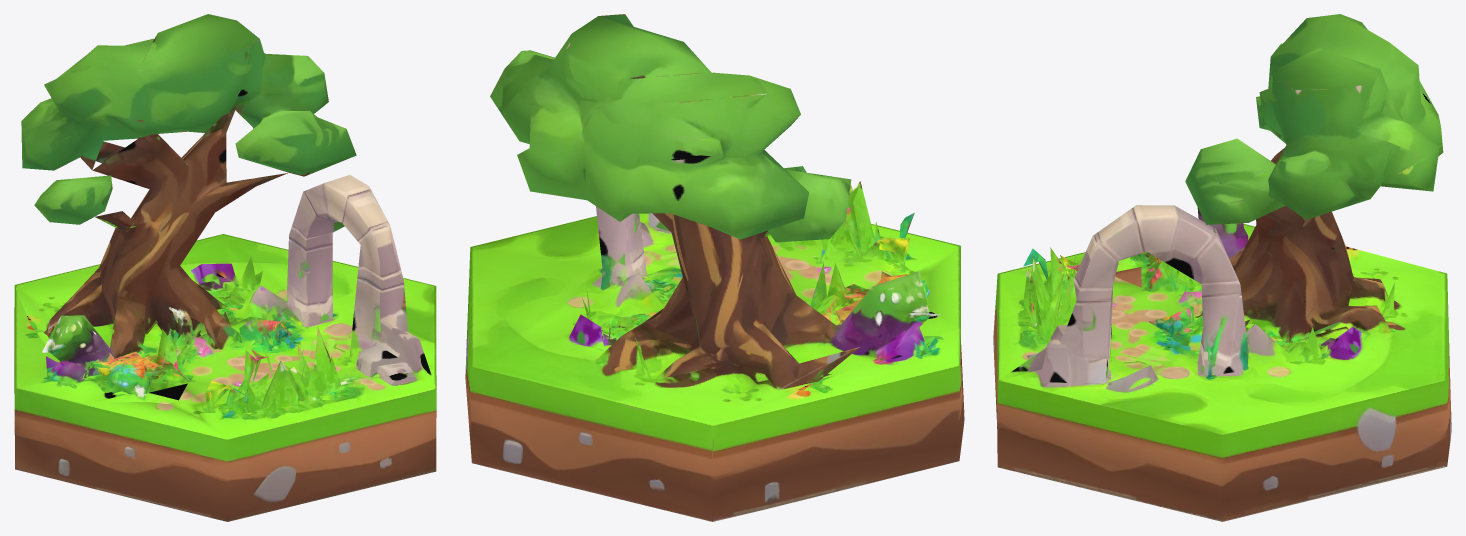
The model's file is meadowtile_lv2.glb.
3 renders of one model, left to right at view 1: azimuth 30°, elevation 25°; view 2: azimuth 150°, elevation 25°; view 3: azimuth 270°, elevation 25°, orthographic. The views are drawn at different scales.
Parts seen in each view (by area): view 1: Mesh1.0; view 2: Mesh1.0; view 3: Mesh1.0.
Boxes of the visible parts, x1,y1,x2,y2 form: Mesh1.0: (14, 14, 436, 521); Mesh1.0: (465, 14, 964, 521); Mesh1.0: (993, 14, 1451, 521).
Size of the model in its own units: 1.91 by 1.51 by 1.7.
Materials: 1 (1 with a texture image).
